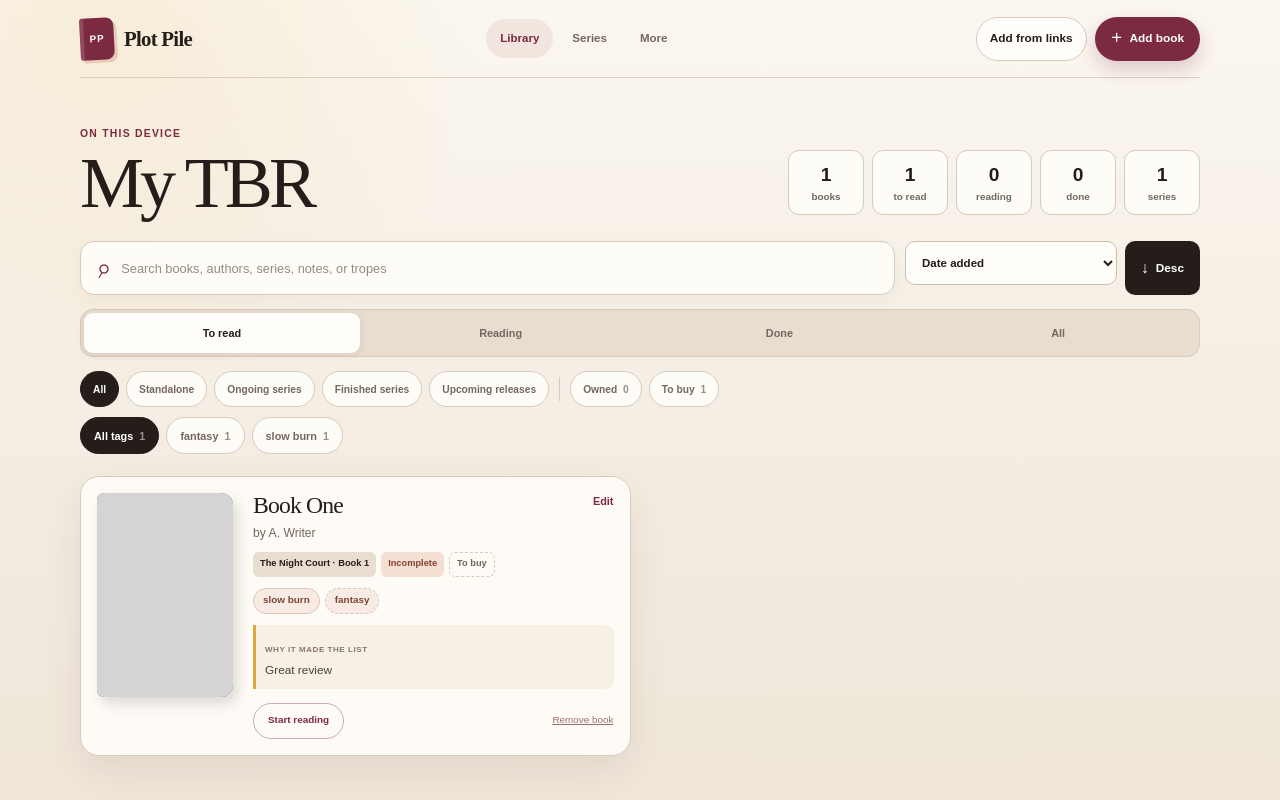
it: Plot Pile behavior › protects dirty editor changes from accidental dismissal
The image size is (1280, 800).
Expected: the heading "Book One" is shown, [253, 493, 343, 518]
Click the button "Edit". click: (603, 502)
box: [593, 493, 614, 510]
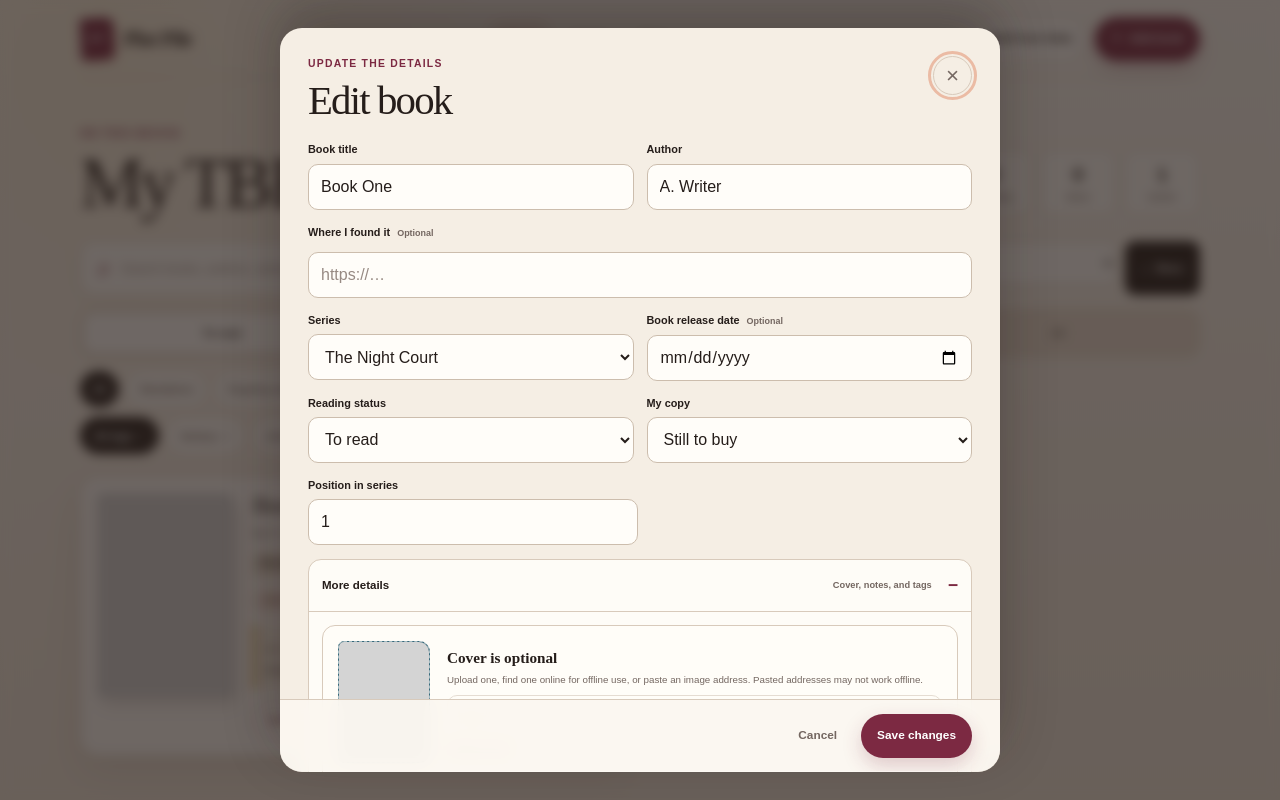
Type " changed" into the field labelled "Book title". click: (471, 187)
box: [308, 164, 634, 210]
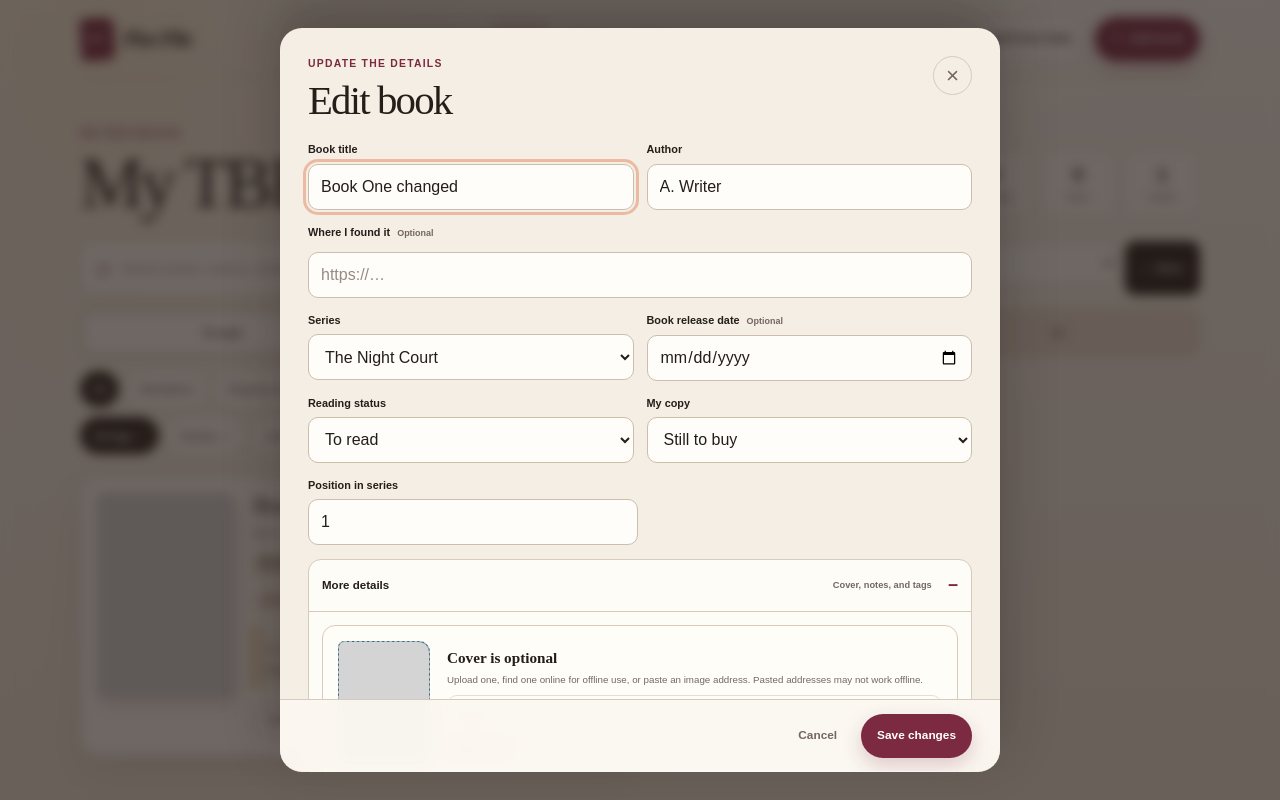
Click the button named "Close". click: (952, 76)
box: [933, 56, 972, 95]
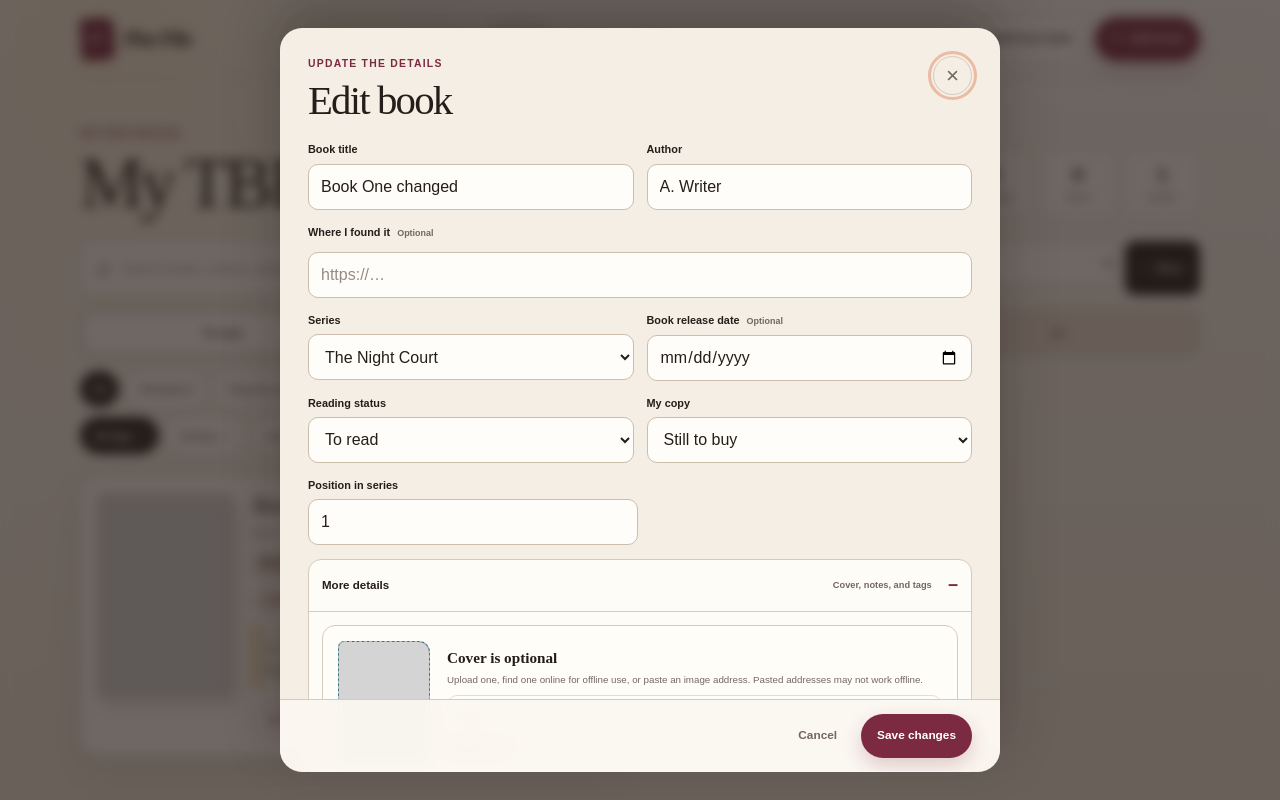
Expected: the dialog is shown, [280, 28, 1000, 772]
Click the button named "Close". click: (952, 76)
box: [933, 56, 972, 95]
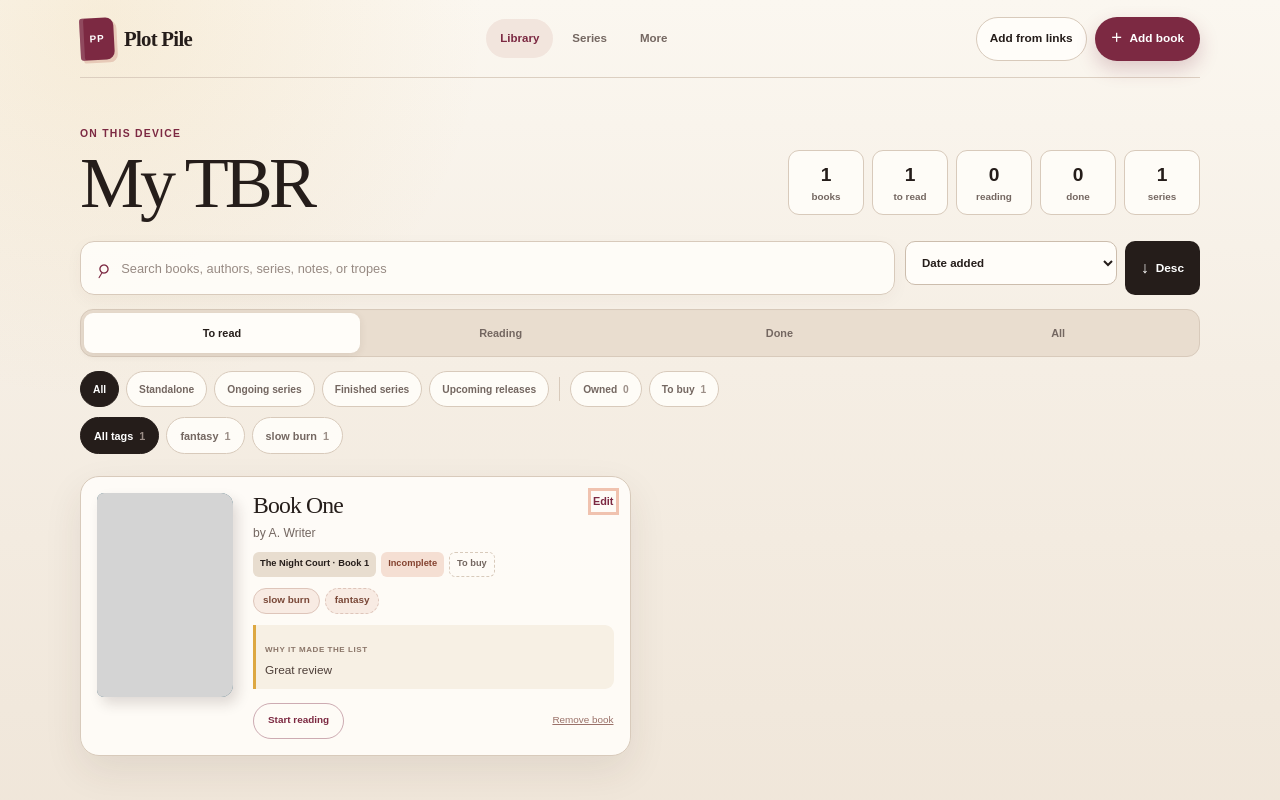
Expected: the dialog is gone
